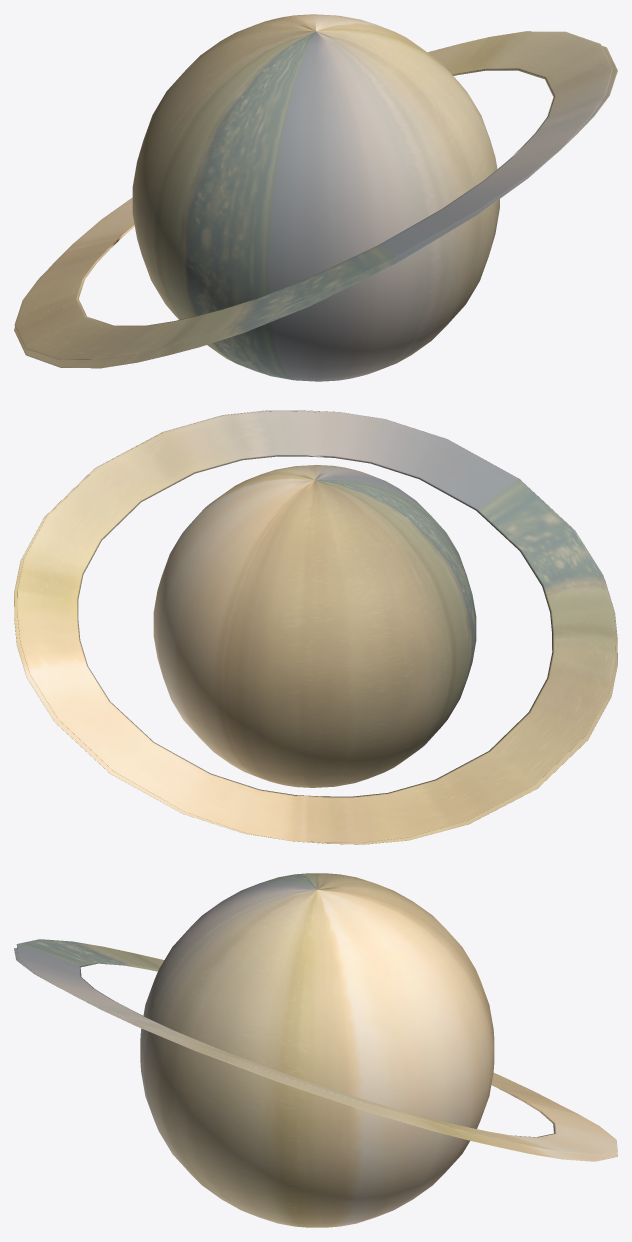
The model's file is planeta_com_anel.obj.
The picture shows the model from 3 angles, top to bottom: view 1: azimuth 30°, elevation 25°; view 2: azimuth 150°, elevation 25°; view 3: azimuth 270°, elevation 25°; orthographic projection. The views are drawn at different scales.
Visible parts, largest first — view 1: SurfSphere; view 2: SurfSphere; view 3: SurfSphere.
Boxes of the visible parts, <box> form: SurfSphere: <box>14,14,617,381</box>; SurfSphere: <box>14,410,617,844</box>; SurfSphere: <box>14,873,617,1227</box>.
Size of the model in its own units: 12.93 by 7.28 by 12.4.
